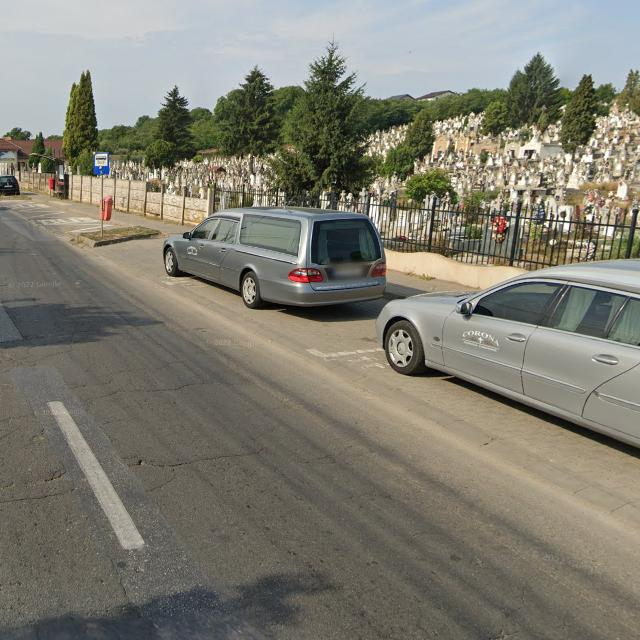info_bus_station: (94, 152, 109, 174)
